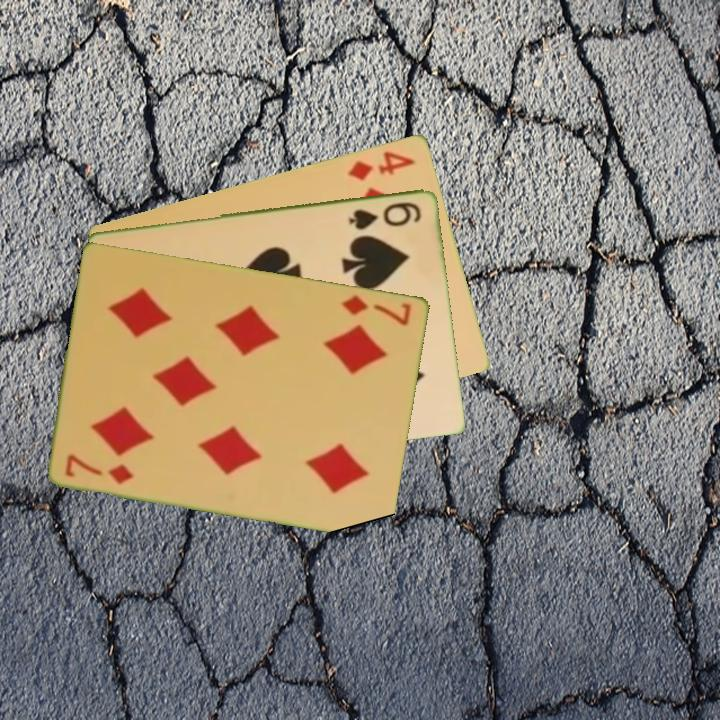4d: (345, 147, 418, 184)
6s: (346, 198, 424, 233)
7d: (338, 291, 414, 328), (62, 450, 138, 487)
